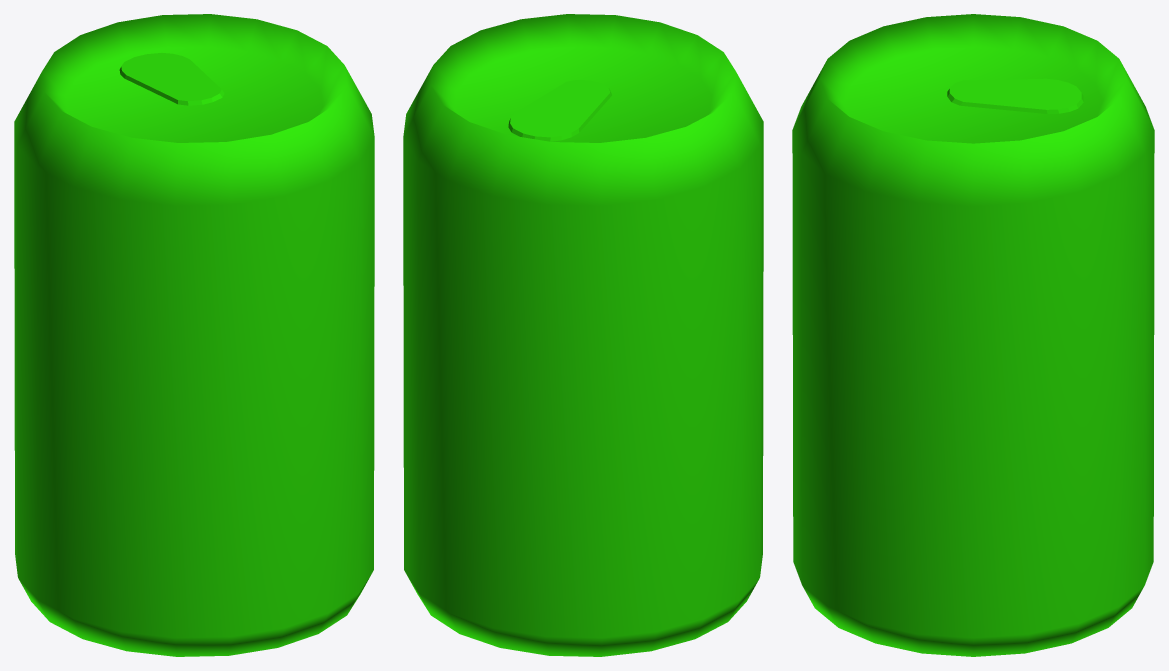
Rendered from Soda_Can_01_Lod0.fbx.
The picture shows the model from 3 angles, left to right: view 1: azimuth 30°, elevation 25°; view 2: azimuth 150°, elevation 25°; view 3: azimuth 270°, elevation 25°; orthographic projection.
Parts seen in each view (by area): view 1: Soda_Can_01_Lod0; view 2: Soda_Can_01_Lod0; view 3: Soda_Can_01_Lod0.
Part boxes in pixels (left/top/right/bottom): Soda_Can_01_Lod0: left=14, top=14, right=374, bottom=656; Soda_Can_01_Lod0: left=403, top=14, right=763, bottom=656; Soda_Can_01_Lod0: left=792, top=14, right=1154, bottom=656.
Bounding box in the file's own units: 8.93 × 13.81 × 8.93.
